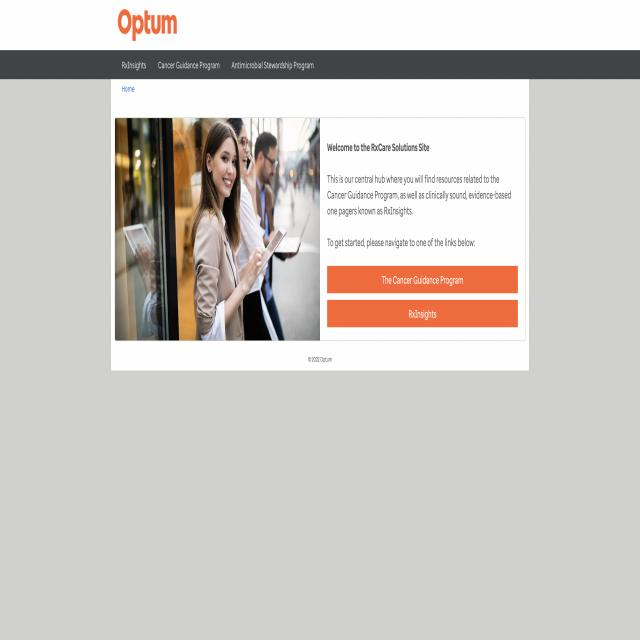Logo: (112, 0, 186, 48)
Navigation: (110, 52, 330, 79)
